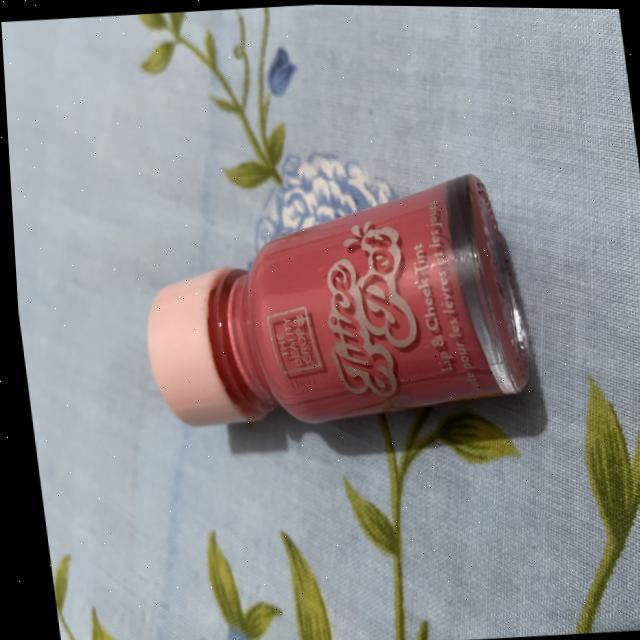Tint: (90, 143, 564, 489)
